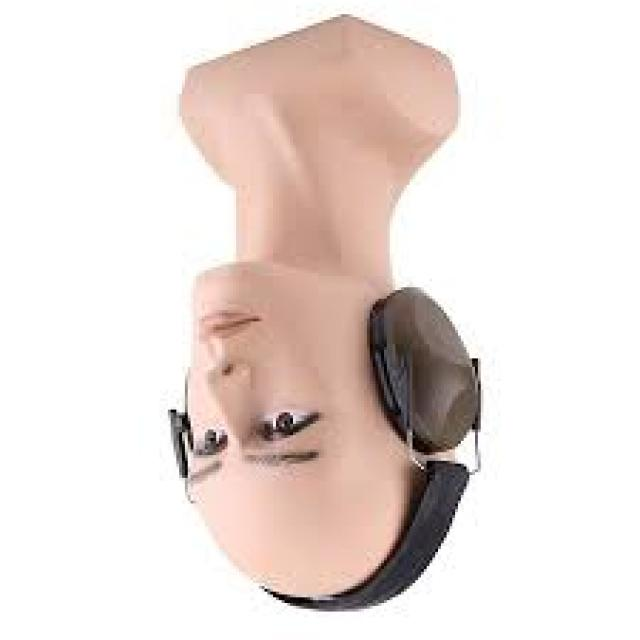Ear-Protection: (364, 287, 481, 464)
